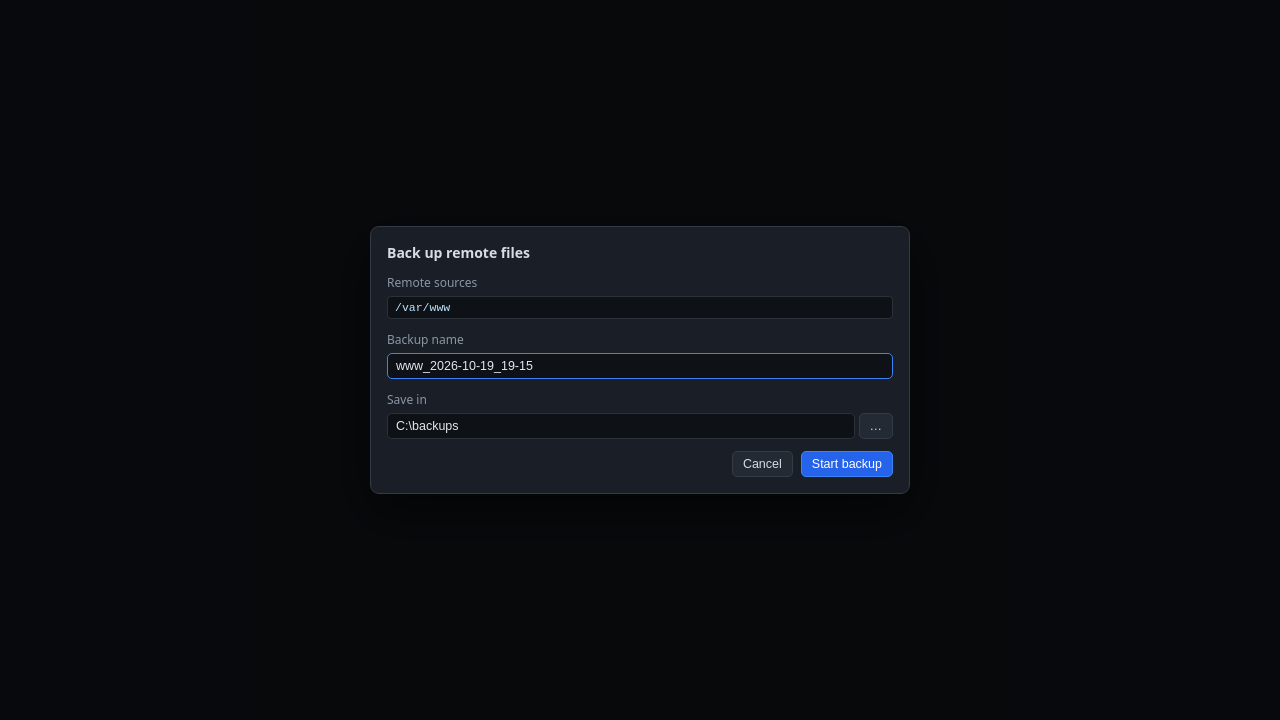
backup dialog › prefills the last destination and starts a backup
Check: the field with placeholder "Choose a local folder…" holds "C:\\backups", box [387, 413, 854, 439]
Click the button "Start backup" at (847, 464), box [801, 451, 893, 477]
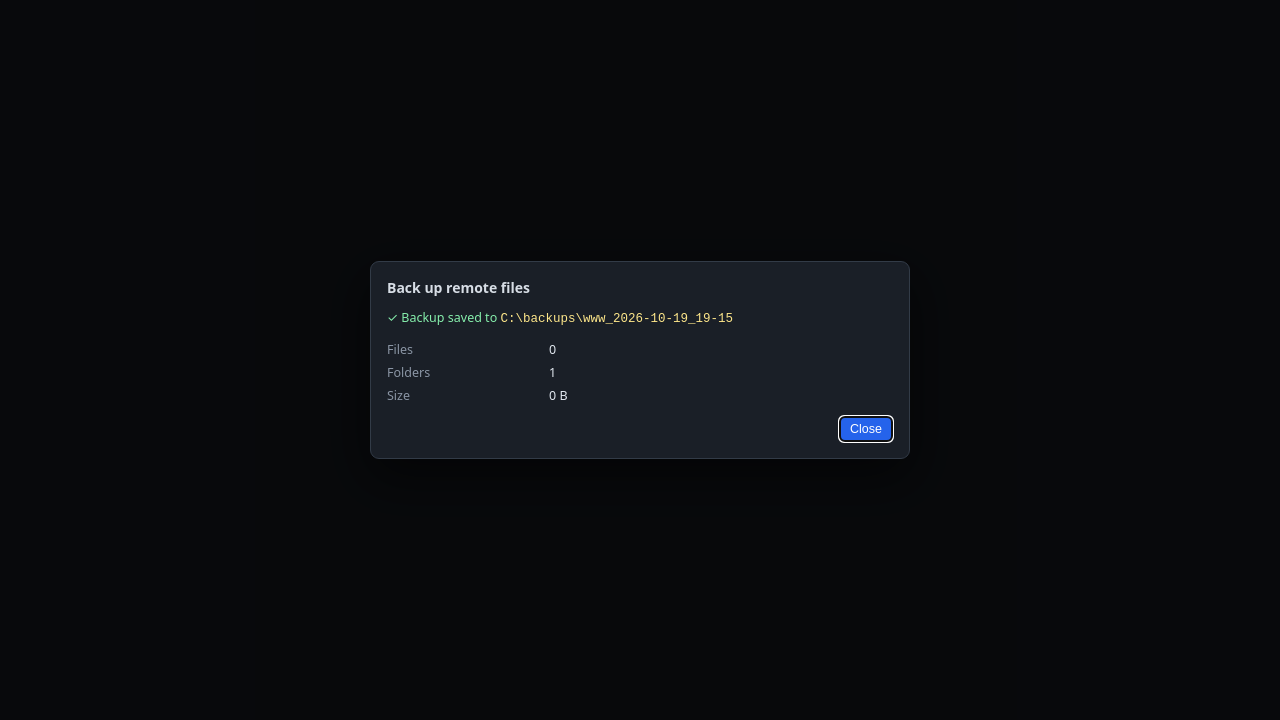
Check: the text "✓ Backup saved to C:\\backups\\www_2026-10-19_19-15" is shown, box [387, 309, 733, 326]
